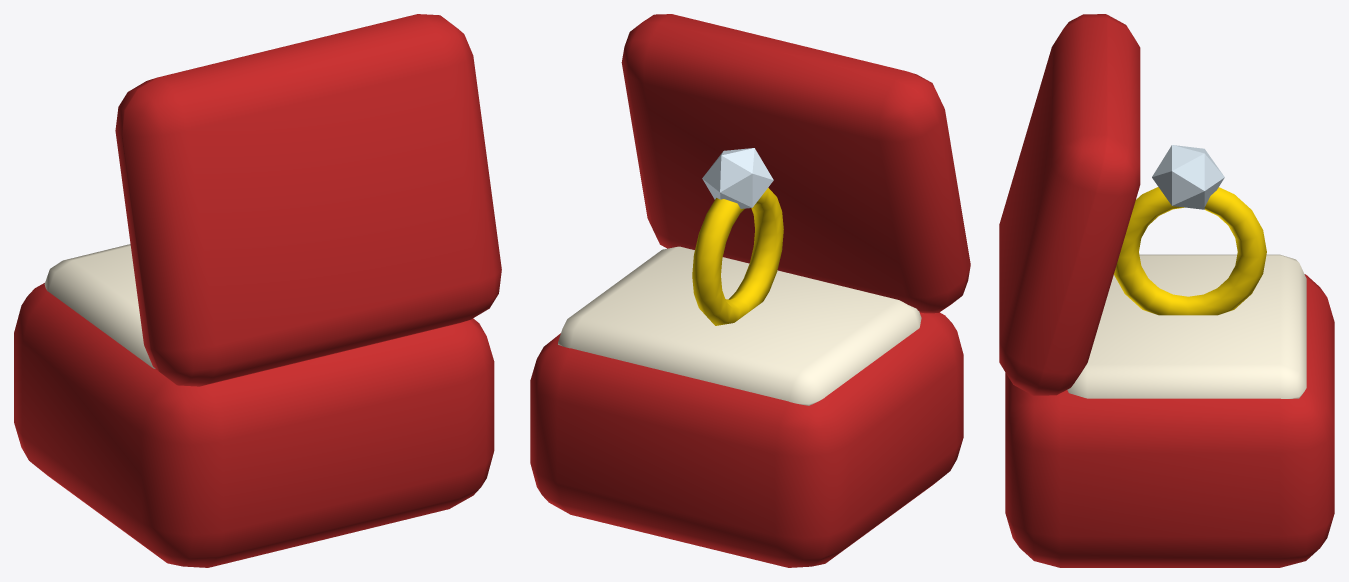
Rendered from ring_box.fbx.
3 renders of one model, left to right at view 1: azimuth 30°, elevation 25°; view 2: azimuth 150°, elevation 25°; view 3: azimuth 270°, elevation 25°, orthographic. The views are drawn at different scales.
Parts seen in each view (by area): view 1: The Ring; view 2: The Ring; view 3: The Ring.
Part boxes in pixels (box(x1,y1,x2,y2)): The Ring: box(14, 14, 501, 567); The Ring: box(530, 14, 970, 567); The Ring: box(999, 14, 1334, 567).
Bounding box in the file's own units: 0.4 × 0.5216 × 0.3666.
